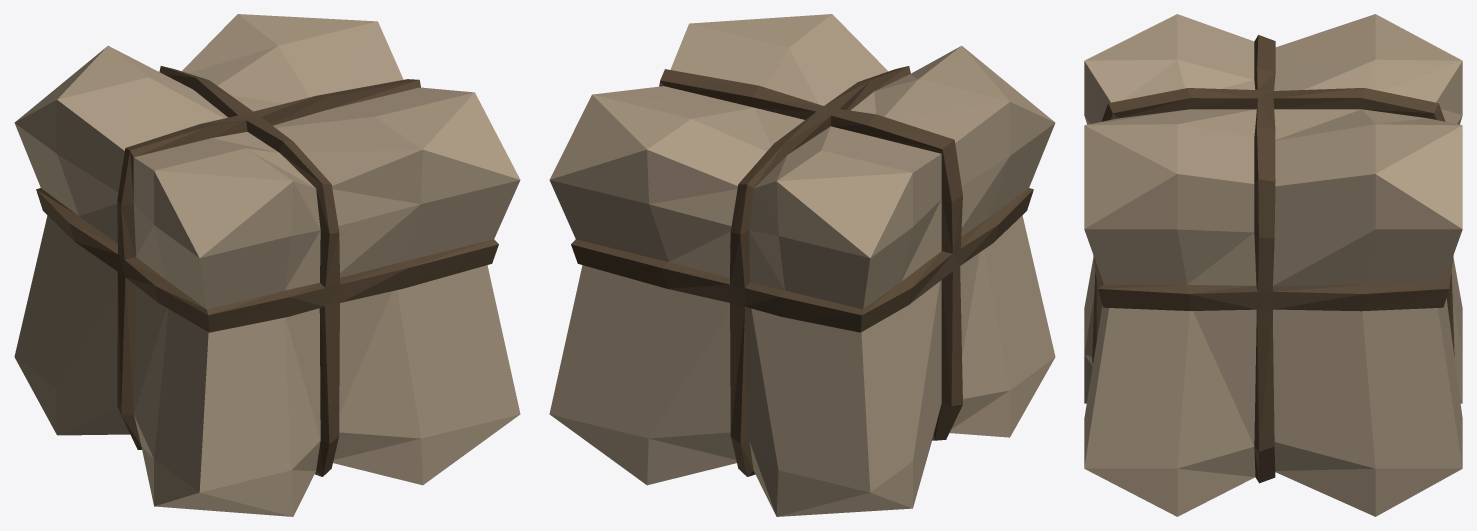
The model's file is SM_Prop_Crate_Covered_01.glb.
3 renders of one model, left to right at view 1: azimuth 30°, elevation 25°; view 2: azimuth 150°, elevation 25°; view 3: azimuth 270°, elevation 25°, orthographic. The views are drawn at different scales.
Visible parts, largest first — view 1: SM_Prop_Crate_Covered_01_part00; view 2: SM_Prop_Crate_Covered_01_part00; view 3: SM_Prop_Crate_Covered_01_part00.
Boxes of the visible parts, bbox=[...] form: SM_Prop_Crate_Covered_01_part00: bbox=[14, 14, 520, 516]; SM_Prop_Crate_Covered_01_part00: bbox=[549, 14, 1055, 516]; SM_Prop_Crate_Covered_01_part00: bbox=[1084, 14, 1462, 516].
Bounding box in the file's own units: 0.6263 × 0.6263 × 0.6263.
1 material, 1 textured.
